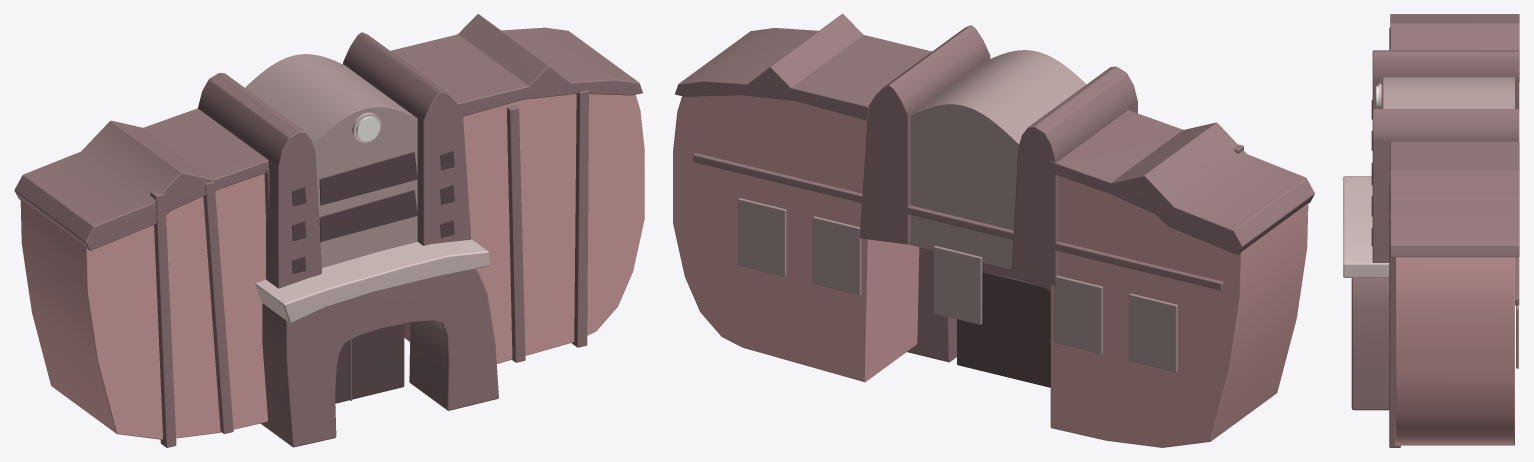
The model's file is pink.glb.
The picture shows the model from 3 angles, left to right: view 1: azimuth 30°, elevation 25°; view 2: azimuth 150°, elevation 25°; view 3: azimuth 270°, elevation 25°; orthographic projection. The views are drawn at different scales.
Parts seen in each view (by area): view 1: Left solid pink wing, Right solid pink wing, Deep entrance portal with real open arch, Left roof cornice, Central curved pediment, Right roof cornice, Left raised tower, Right raised tower, Projecting pale entrance canopy, Recessed entry doors, Vertical facade pier 4, Vertical facade pier 3 (+4 smaller); view 2: Right solid pink wing, Left solid pink wing, Central curved pediment, Left roof cornice, Right roof cornice, Left raised tower, Right raised tower, Recessed entry doors, Rear cornice, Rear inset panel.002, Rear inset panel.004, Rear inset panel (+3 smaller); view 3: Right solid pink wing, Right roof cornice, Right raised tower, Deep entrance portal with real open arch, Left roof cornice, Left raised tower, Central curved pediment, Projecting pale entrance canopy, Vertical facade pier 4, Rear cornice, Rear inset panel.004.
Part boxes in pixels (<box>): Left solid pink wing: <box>20,173,267,439</box>; Right solid pink wing: <box>404,94,644,363</box>; Deep entrance portal with real open arch: <box>260,269,498,447</box>; Left roof cornice: <box>14,108,268,250</box>; Central curved pediment: <box>245,54,417,267</box>; Right roof cornice: <box>390,14,642,116</box>; Left raised tower: <box>198,73,321,288</box>; Right raised tower: <box>343,32,471,245</box>; Projecting pale entrance canopy: <box>255,239,490,323</box>; Recessed entry doors: <box>335,324,404,403</box>; Vertical facade pier 4: <box>572,90,588,347</box>; Vertical facade pier 3: <box>506,105,525,362</box>; Right solid pink wing: <box>673,95,919,382</box>; Left solid pink wing: <box>1050,176,1308,447</box>; Central curved pediment: <box>908,50,1086,269</box>; Left roof cornice: <box>1049,110,1314,255</box>; Right roof cornice: <box>675,14,931,120</box>; Left raised tower: <box>1011,66,1137,286</box>; Right raised tower: <box>860,25,990,244</box>; Recessed entry doors: <box>957,272,1050,387</box>; Rear cornice: <box>693,153,1223,290</box>; Rear inset panel.002: <box>933,246,982,324</box>; Rear inset panel.004: <box>738,198,786,277</box>; Rear inset panel: <box>1129,293,1177,372</box>; Right solid pink wing: <box>1395,257,1514,445</box>; Right roof cornice: <box>1390,141,1519,257</box>; Right raised tower: <box>1372,109,1519,262</box>; Deep entrance portal with real open arch: <box>1351,278,1389,410</box>; Left roof cornice: <box>1390,14,1519,81</box>; Left raised tower: <box>1372,50,1519,109</box>; Central curved pediment: <box>1383,77,1514,108</box>; Projecting pale entrance canopy: <box>1343,176,1389,277</box>; Vertical facade pier 4: <box>1389,215,1400,447</box>; Rear cornice: <box>1515,257,1519,305</box>; Rear inset panel.004: <box>1516,305,1518,368</box>.
Size of the model in its own units: 1 by 0.5295 by 0.3003.
